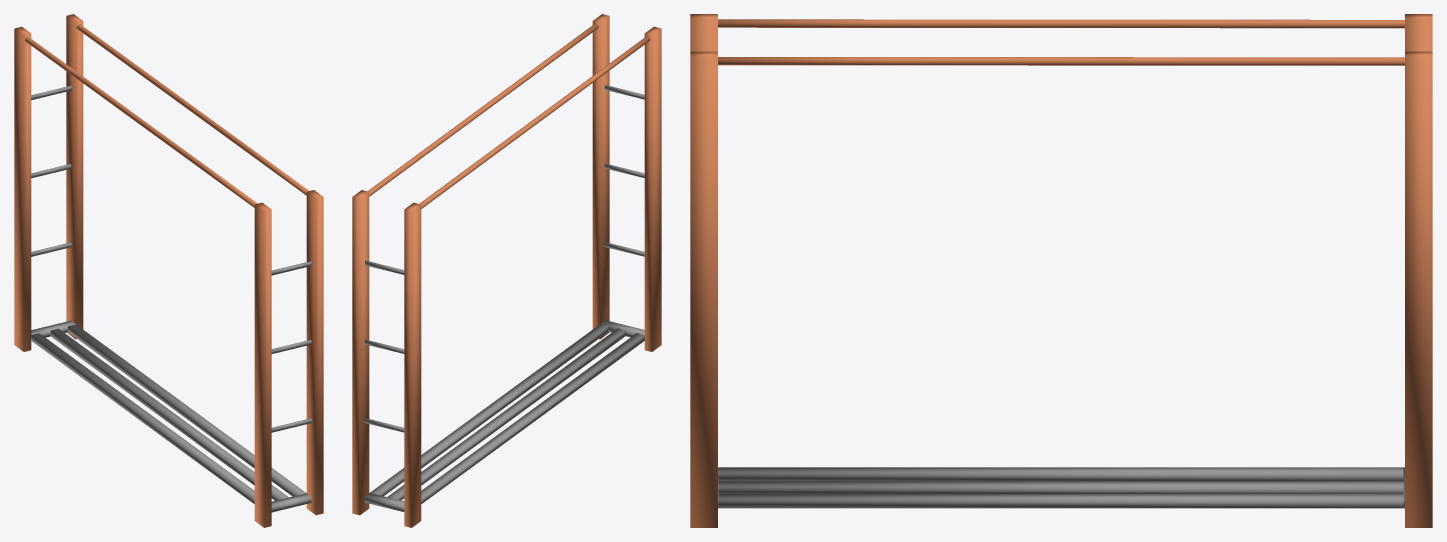
Rendered from sowwall.gltf.
The picture shows the model from 3 angles, left to right: view 1: azimuth 30°, elevation 25°; view 2: azimuth 150°, elevation 25°; view 3: azimuth 270°, elevation 25°; orthographic projection. The views are drawn at different scales.
Visible parts, largest first — view 1: Box1181, Box1336, Box1182, Box1337, Box1145, Box1146, Box1147, Cylinder101, Cylinder100, Box1323; view 2: Box1336, Box1181, Box1337, Box1182, Box1145, Box1147, Box1146, Cylinder101, Cylinder100, Box1324; view 3: Box1182, Box1337, Box1145, Box1147, Box1146, Cylinder100, Cylinder101, Box1181, Box1336.
Boxes of the visible parts, x1,y1,x2,y2 form: Box1181: [254, 202, 271, 527]; Box1336: [14, 26, 31, 351]; Box1182: [306, 190, 323, 515]; Box1337: [66, 14, 83, 339]; Box1145: [31, 333, 254, 503]; Box1146: [50, 328, 288, 500]; Box1147: [68, 324, 305, 496]; Cylinder101: [76, 24, 308, 195]; Cylinder100: [25, 37, 257, 207]; Box1323: [271, 493, 311, 512]; Box1336: [404, 202, 421, 527]; Box1181: [644, 26, 661, 351]; Box1337: [352, 190, 369, 515]; Box1182: [592, 14, 609, 339]; Box1145: [421, 333, 644, 503]; Box1147: [370, 324, 608, 496]; Box1146: [388, 328, 625, 500]; Cylinder101: [368, 23, 598, 196]; Cylinder100: [419, 36, 650, 208]; Box1324: [364, 493, 404, 511]; Box1182: [690, 51, 717, 527]; Box1337: [1405, 51, 1432, 527]; Box1145: [718, 467, 1404, 481]; Box1147: [718, 494, 1403, 508]; Box1146: [718, 481, 1403, 493]; Cylinder100: [718, 19, 1404, 28]; Cylinder101: [718, 57, 1404, 65]; Box1181: [690, 14, 717, 51]; Box1336: [1405, 14, 1432, 51].
Size of the model in its own units: 724 by 3693 by 5278.
Materials: 3 (2 with a texture image).
